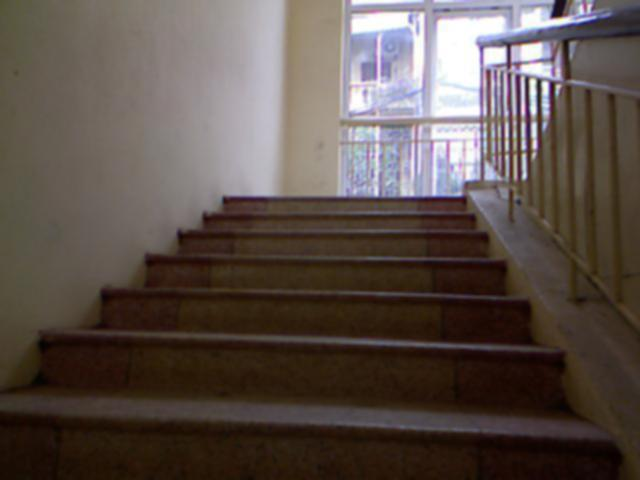Escaleras: (0, 172, 618, 479)
